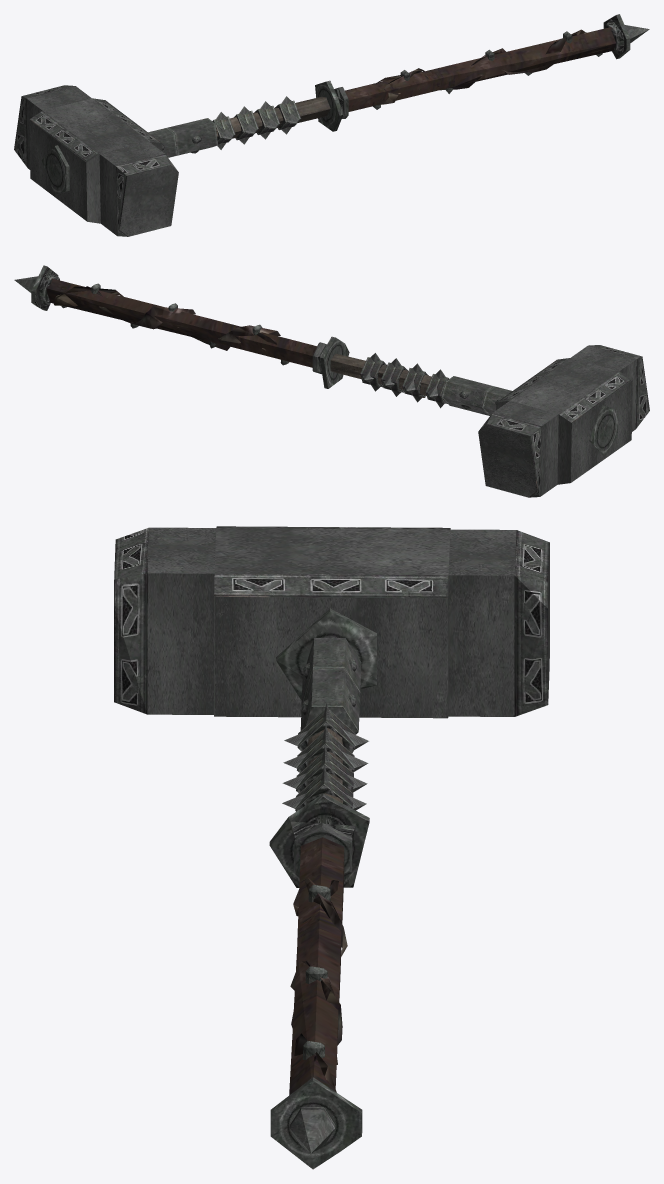
Rendered from 1H_STORMHAMMER.glb.
3 renders of one model, top to bottom at view 1: azimuth 30°, elevation 25°; view 2: azimuth 150°, elevation 25°; view 3: azimuth 270°, elevation 25°, orthographic. The views are drawn at different scales.
Parts seen in each view (by area): view 1: 1H_STORMHAMMER; view 2: 1H_STORMHAMMER; view 3: 1H_STORMHAMMER.
Boxes of the visible parts, x1,y1,x2,y2 form: 1H_STORMHAMMER: (14,14,649,236); 1H_STORMHAMMER: (14,265,649,497); 1H_STORMHAMMER: (114,526,549,1169).
Size of the model in its own units: 1.27 by 0.1457 by 0.4056.
Materials: 1 (1 with a texture image).
